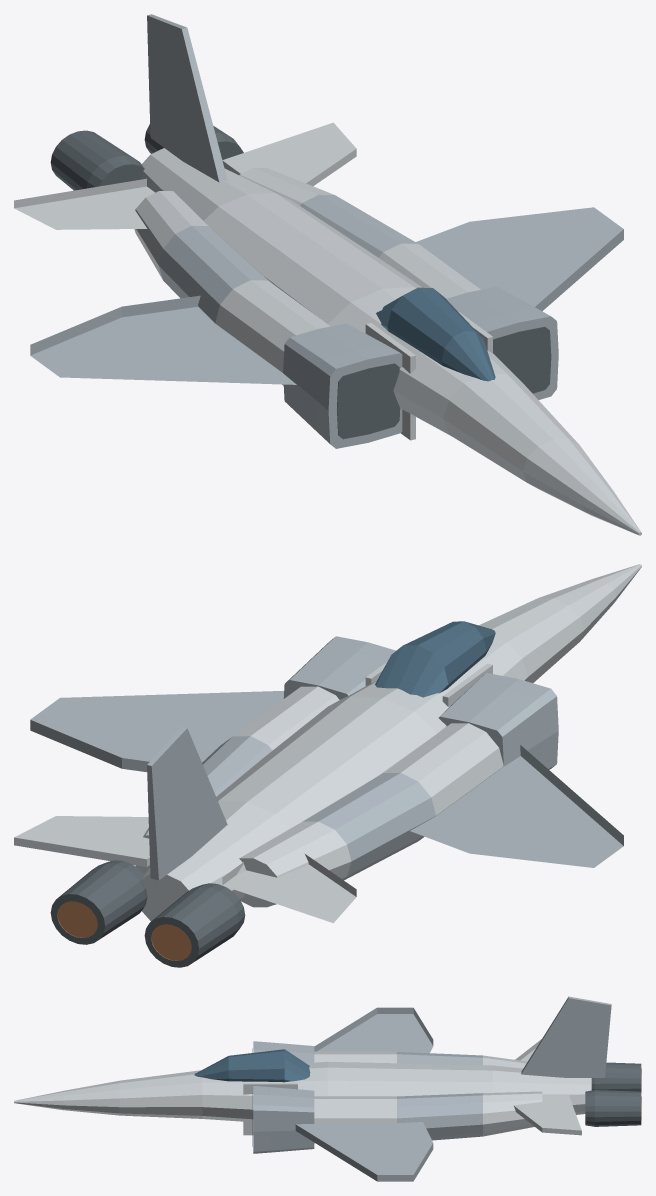
The model's file is tc167_prototype.glb.
The picture shows the model from 3 angles, top to bottom: view 1: azimuth 30°, elevation 25°; view 2: azimuth 150°, elevation 25°; view 3: azimuth 270°, elevation 25°; orthographic projection. The views are drawn at different scales.
Parts seen in each view (by area): view 1: FuselageSurface1, RightWingSurface19, NoseSurface2, LeftWingSurface6, VerticalTailSurface32, RightIntakeSurface21, CockpitSurface3, RightLowerLegSurface25, RightUpperLegSurface24, RightTailSurface20, LeftTailSurface7, RightIntakeSurface22 (+9 smaller); view 2: FuselageSurface1, RightWingSurface19, LeftWingSurface6, VerticalTailSurface32, NoseSurface2, RightLowerLegSurface25, RightIntakeSurface21, RightUpperLegSurface24, CockpitSurface3, LeftTailSurface7, RightTailSurface20, RightEngineSurface27 (+8 smaller); view 3: FuselageSurface1, LeftWingSurface6, NoseSurface2, VerticalTailSurface32, RightWingSurface19, LeftIntakeSurface8, LeftLowerLegSurface12, CockpitSurface3, LeftUpperLegSurface11, LeftEngineSurface14, LeftTailSurface7, LeftFootSurface13 (+6 smaller).
Part boxes in pixels (x1,y1,x2,y2): FuselageSurface1: (140,148,521,436); RightWingSurface19: (30,295,296,384); NoseSurface2: (443,373,641,535); LeftWingSurface6: (416,207,623,311); VerticalTailSurface32: (147,14,227,182); RightIntakeSurface21: (283,323,402,448); CockpitSurface3: (376,287,495,381); RightLowerLegSurface25: (159,225,271,323); RightUpperLegSurface24: (215,280,330,385); RightTailSurface20: (14,178,163,229); LeftTailSurface7: (222,122,356,186); RightIntakeSurface22: (337,363,400,439); FuselageSurface1: (142,637,527,921); RightWingSurface19: (410,745,623,867); LeftWingSurface6: (30,691,283,772); VerticalTailSurface32: (147,727,227,880); NoseSurface2: (479,564,641,682); RightLowerLegSurface25: (302,772,435,880); RightIntakeSurface21: (438,673,558,769); RightUpperLegSurface24: (384,723,503,815); CockpitSurface3: (375,621,495,697); LeftTailSurface7: (14,816,149,866); RightTailSurface20: (222,854,356,923); RightEngineSurface27: (144,883,245,967); FuselageSurface1: (202,1061,591,1121); LeftWingSurface6: (295,1122,433,1181); NoseSurface2: (14,1070,202,1118); VerticalTailSurface32: (521,996,611,1077); RightWingSurface19: (314,1007,433,1053); LeftIntakeSurface8: (253,1086,314,1153); LeftLowerLegSurface12: (397,1093,482,1140); CockpitSurface3: (194,1049,310,1082); LeftUpperLegSurface11: (314,1096,396,1143); LeftEngineSurface14: (585,1090,641,1126); LeftTailSurface7: (513,1094,581,1135); LeftFootSurface13: (483,1091,542,1136).
Bounding box in the file's own units: 12 × 4.2 × 19.02.
